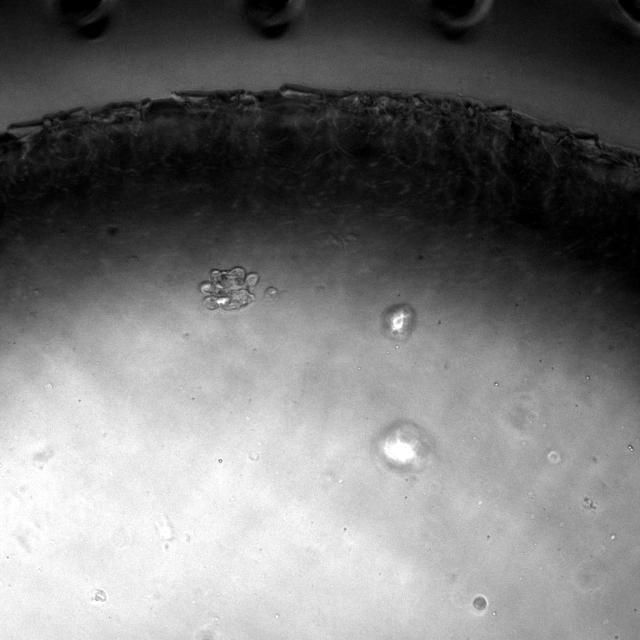organoid: (374, 419, 434, 474), (199, 266, 259, 310), (381, 303, 416, 341), (473, 596, 486, 610)
